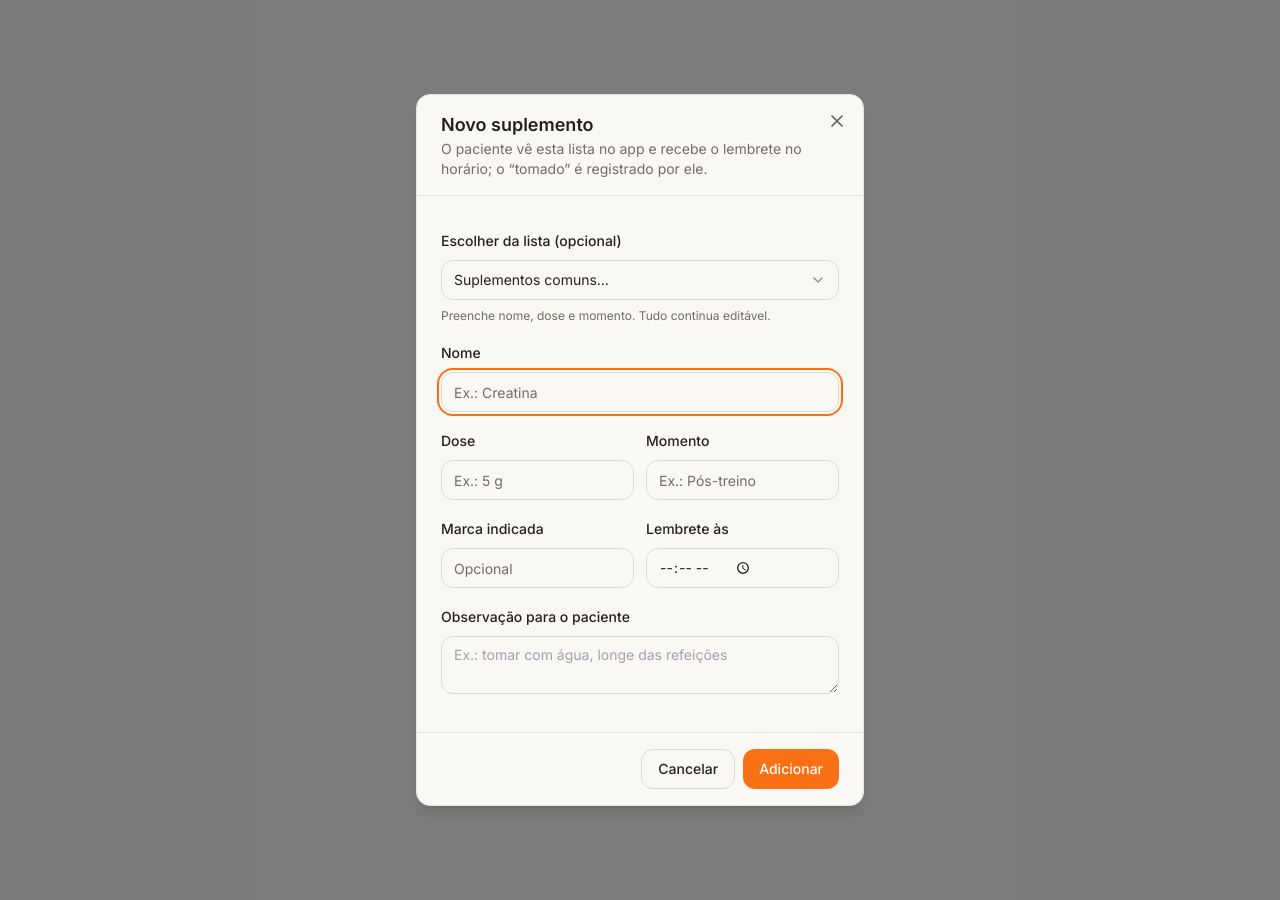
Scenario: SupplementEditorDialog › sem nome: avisa e não cria
Click the button "Adicionar" at (791, 769), box [743, 749, 839, 789]
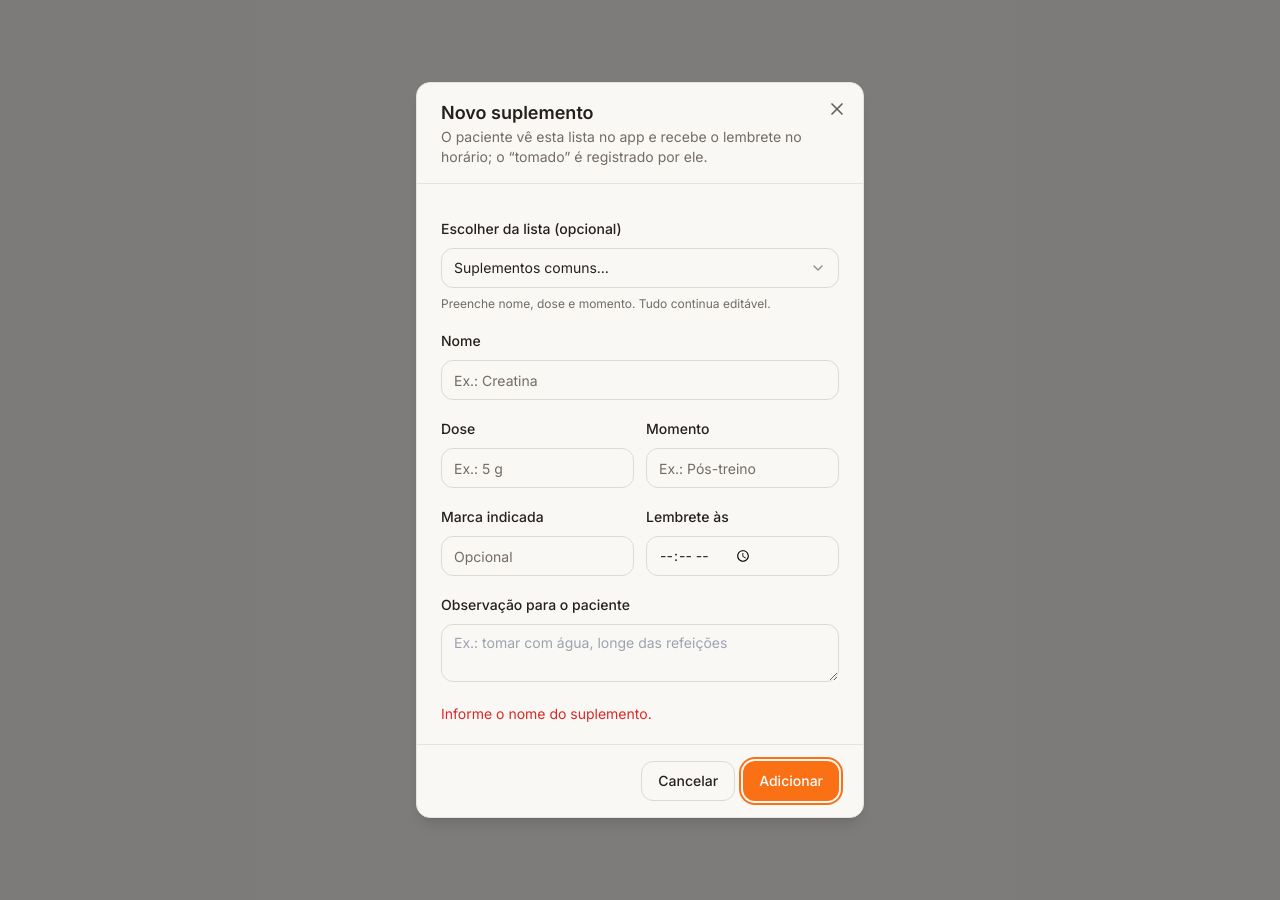
Expected: the message shows "nome do suplemento", [441, 705, 652, 722]
